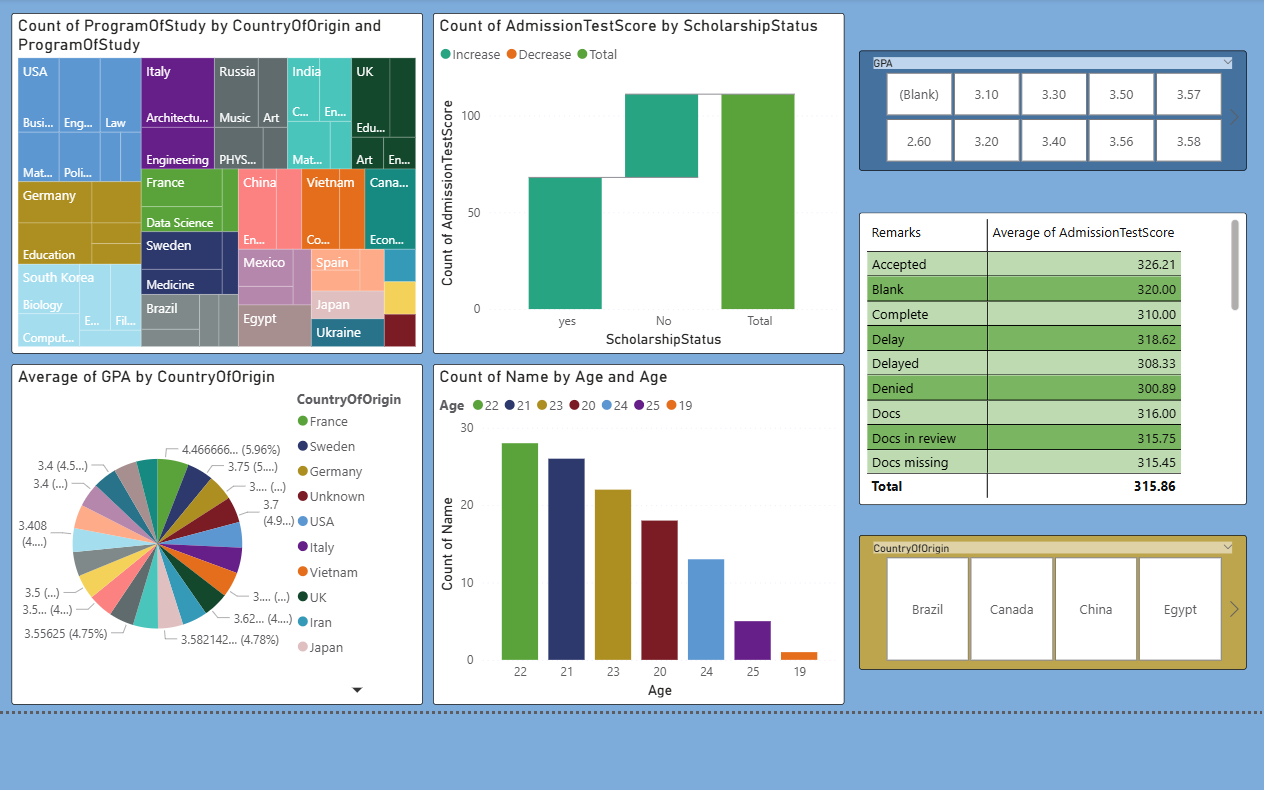

The dashboard page shown, as its layout file describes it:
{"tool":"powerbi","page":{"name":"Page 2","canvas":[1280,720],"ordinal":1},"visuals":[{"type":"treemap","fields":{"Group":["project student migration record.CountryOfOrigin"],"Details":["project student migration record.ProgramOfStudy"],"Values":["CountNonNull(project student migration record.ProgramOfStudy)"]},"box":[14.2,15.8,415.3,344.2],"z":0},{"type":"pieChart","fields":{"Y":["Avg(project student migration record.GPA)"],"Category":["project student migration record.CountryOfOrigin"]},"box":[14.2,369.5,415.3,344.2],"z":1000},{"type":"waterfallChart","fields":{"Category":["project student migration record.ScholarshipStatus"],"Y":["CountNonNull(project student migration record.AdmissionTestScore)"]},"box":[439,15.8,415.3,344.2],"z":2000},{"type":"lineStackedColumnComboChart","fields":{"Category":["project student migration record.Age"],"Y":["CountNonNull(project student migration record.Name)"],"Series":["project student migration record.Age"]},"box":[439,369,415,344],"z":3000},{"type":"tableEx","fields":{"Values":["project student migration record.Remarks","Avg(project student migration record.AdmissionTestScore)"]},"box":[868.4,216.3,391.6,295.3],"z":4000},{"type":"slicer","fields":{"Values":["project student migration record.GPA"]},"box":[868.4,53.7,391.6,121.6],"z":5000},{"type":"slicer","fields":{"Values":["project student migration record.CountryOfOrigin"]},"box":[868.4,541.6,391.6,135.8],"z":6000}]}

Visuals, with their boxes on the page's 1280x720 design canvas (x1, y1, x2, y2). These are canvas units, not pixel positions in the 1264x790 screenshot, which may show the page scaled, cropped or inside an application window:
treemap - project student migration record.CountryOfOrigin x project student migration record.ProgramOfStudy: <bbox>14, 16, 430, 360</bbox>
pieChart - Avg(project student migration record.GPA) x project student migration record.CountryOfOrigin: <bbox>14, 370, 430, 714</bbox>
waterfallChart - project student migration record.ScholarshipStatus x CountNonNull(project student migration record.AdmissionTestScore): <bbox>439, 16, 854, 360</bbox>
lineStackedColumnComboChart - project student migration record.Age x CountNonNull(project student migration record.Name): <bbox>439, 369, 854, 713</bbox>
tableEx - project student migration record.Remarks x Avg(project student migration record.AdmissionTestScore): <bbox>868, 216, 1260, 512</bbox>
slicer - project student migration record.GPA: <bbox>868, 54, 1260, 175</bbox>
slicer - project student migration record.CountryOfOrigin: <bbox>868, 542, 1260, 677</bbox>
